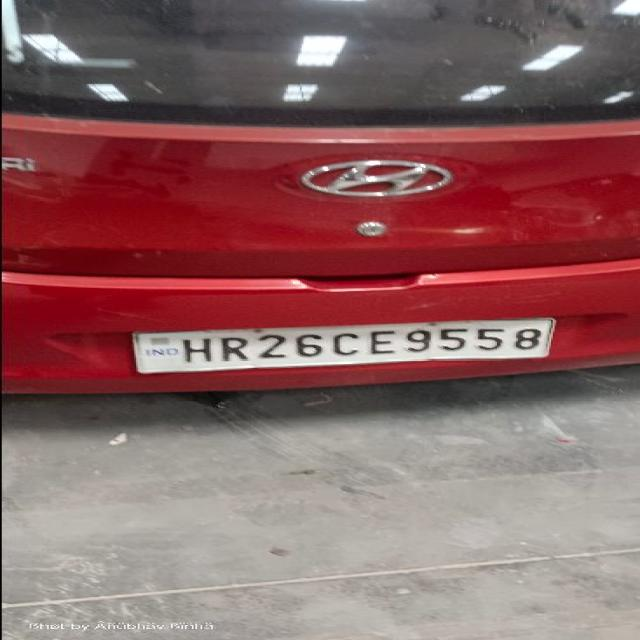license_plate: (129, 316, 556, 374)
